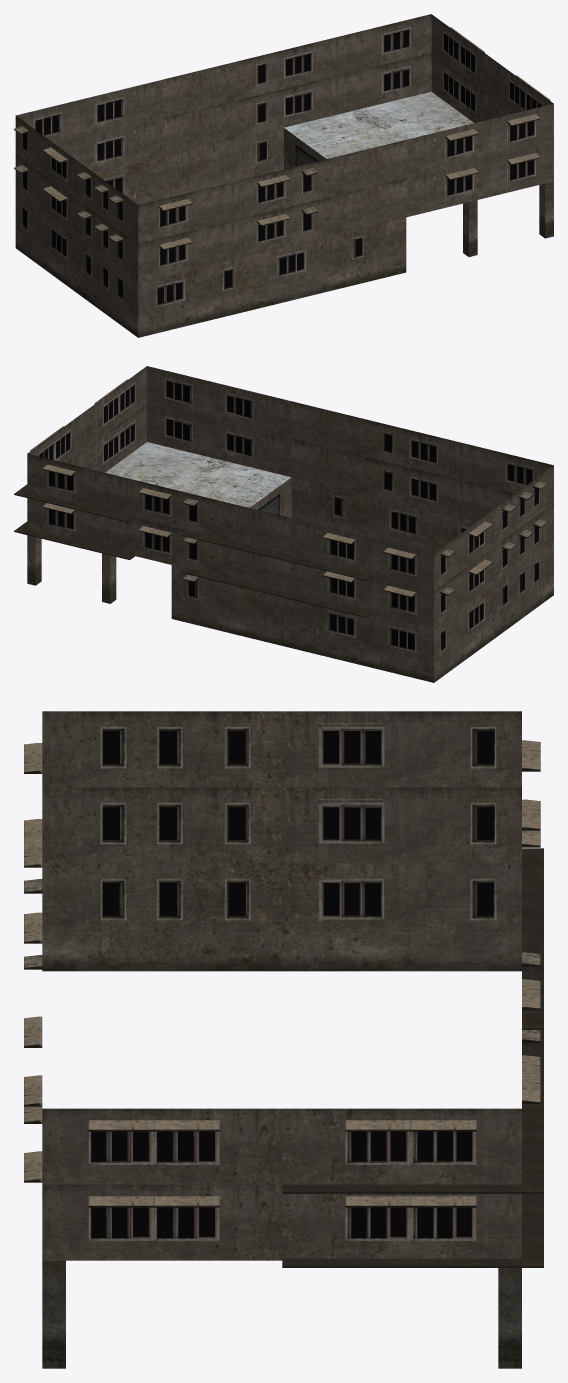
File: Apt2_HDBase.FBX
3 renders of one model, top to bottom at view 1: azimuth 30°, elevation 25°; view 2: azimuth 150°, elevation 25°; view 3: azimuth 270°, elevation 25°, orthographic. The views are drawn at different scales.
Visible parts, largest first — view 1: Apt2_HDBase; view 2: Apt2_HDBase; view 3: Apt2_HDBase.
Boxes of the visible parts, x1=… form: Apt2_HDBase: x1=14, y1=14, x2=553, y2=337; Apt2_HDBase: x1=14, y1=366, x2=553, y2=682; Apt2_HDBase: x1=24, y1=711, x2=543, y2=1368.
Size of the model in its own units: 3728 by 1094 by 1986.
1 material, 1 textured.
